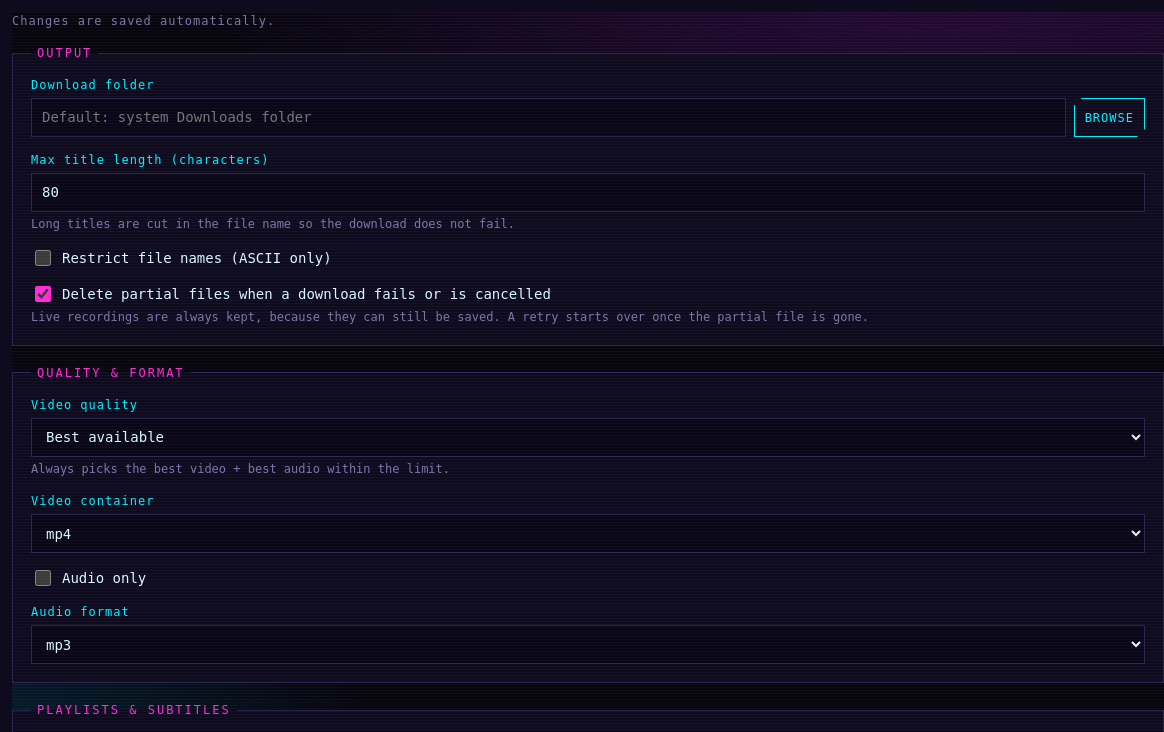
Test: SettingsPanel auto-save of text and number fields (2 s after typing) › saves "Max title length (characters)" only after the delay
Replace the text in the number field labelled "Max title length (characters)" with "60". click: coordinates (588, 192)
box: [31,173,1145,212]
Wait 2000 ms
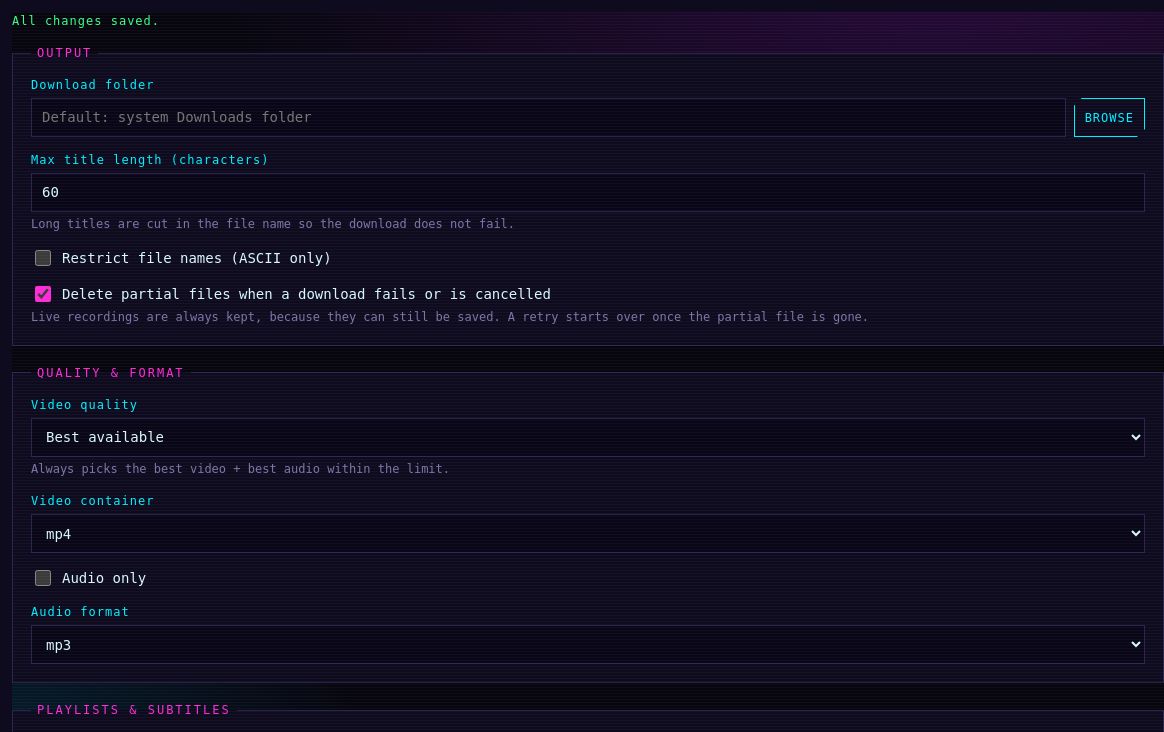
Expected: the text "All changes saved." is shown, [12,14,160,28]
